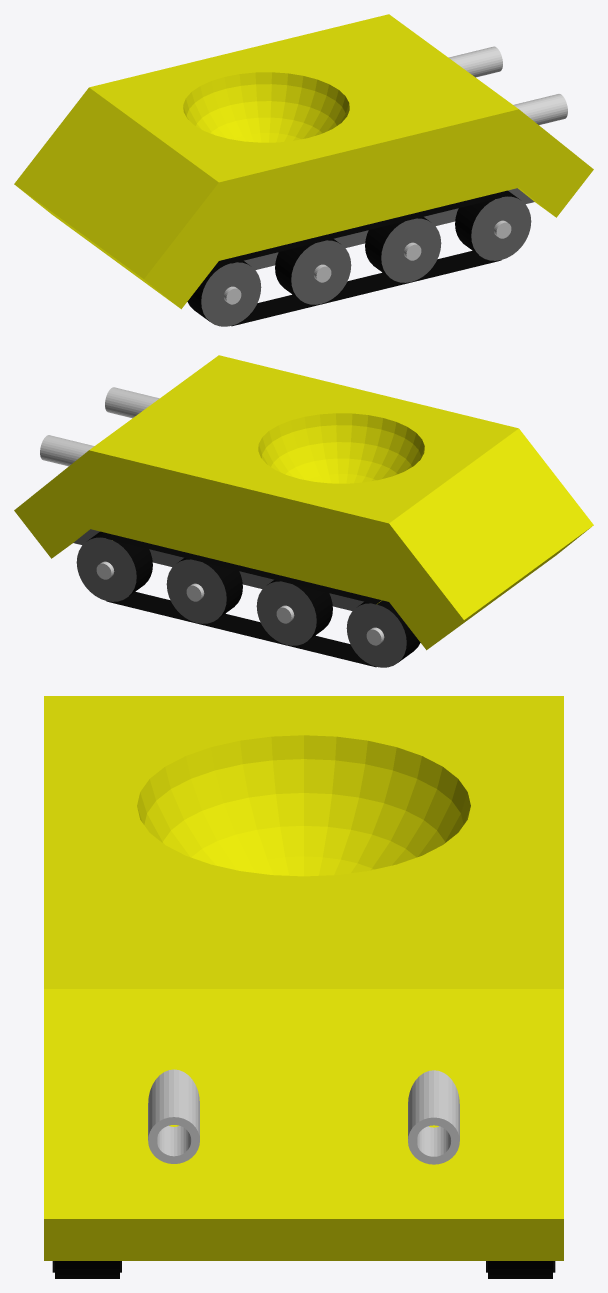
The model's file is Body_Yellow.fbx.
3 renders of one model, top to bottom at view 1: azimuth 30°, elevation 25°; view 2: azimuth 150°, elevation 25°; view 3: azimuth 270°, elevation 25°, orthographic. The views are drawn at different scales.
Visible parts, largest first — view 1: Cube; view 2: Cube; view 3: Cube.
Part boxes in pixels (left/top/right/bottom): Cube: left=14, top=14, right=593, bottom=326; Cube: left=14, top=355, right=593, bottom=667; Cube: left=44, top=696, right=563, bottom=1278.
Bounding box in the file's own units: 600 × 190 × 300.
